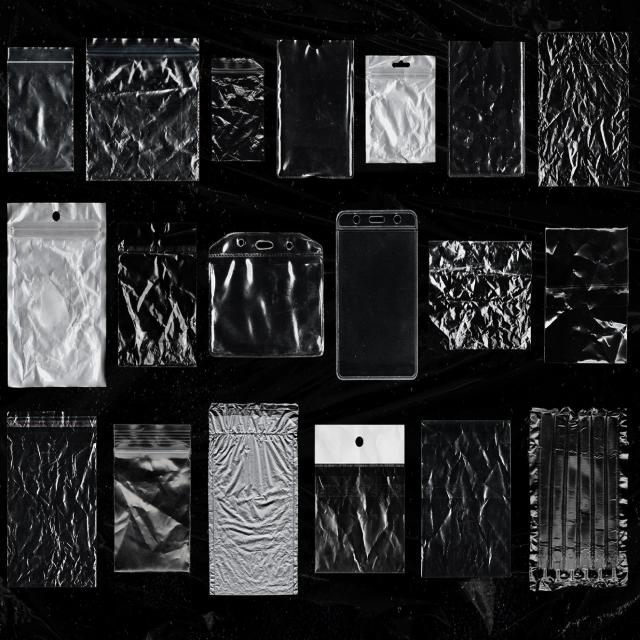Single-layer Plastic: (529, 409, 629, 591), (8, 203, 106, 386), (209, 404, 299, 594), (86, 38, 199, 181), (6, 412, 96, 588), (209, 232, 324, 357), (421, 420, 510, 577), (336, 211, 418, 379), (539, 33, 629, 185), (315, 425, 405, 573), (114, 423, 191, 571), (545, 229, 629, 364), (118, 222, 196, 367), (429, 240, 531, 349), (278, 40, 354, 178), (449, 41, 524, 175), (8, 48, 74, 170), (366, 56, 435, 162), (211, 58, 264, 161)
